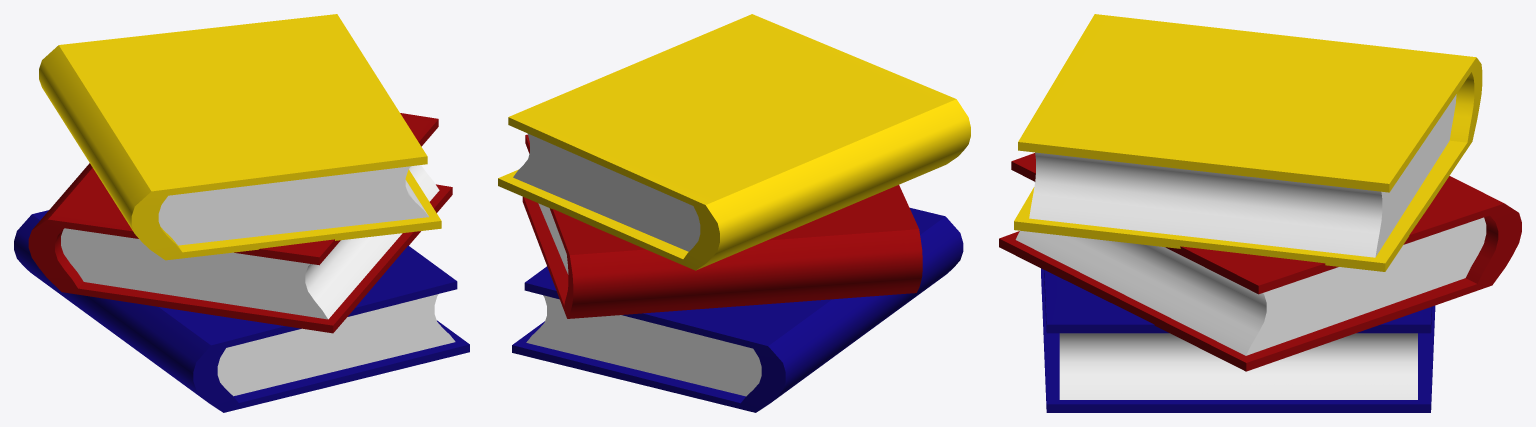
File: livros.fbx
3 renders of one model, left to right at view 1: azimuth 30°, elevation 25°; view 2: azimuth 150°, elevation 25°; view 3: azimuth 270°, elevation 25°, orthographic. The views are drawn at different scales.
Parts seen in each view (by area): view 1: Livro; view 2: Livro; view 3: Livro.
Part boxes in pixels (x1,y1,x2,y2): Livro: [14, 14, 469, 412]; Livro: [498, 14, 970, 412]; Livro: [999, 14, 1521, 412].
Bounding box in the file's own units: 110 × 55.72 × 109.
